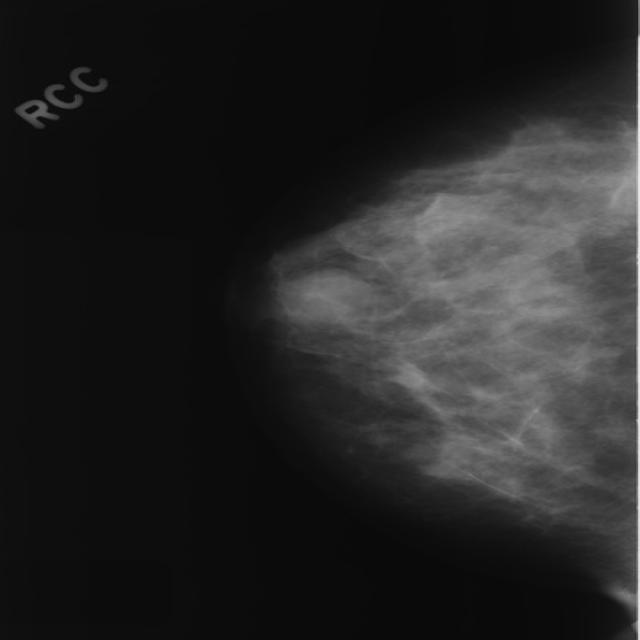tumour: (275, 266, 374, 328)
